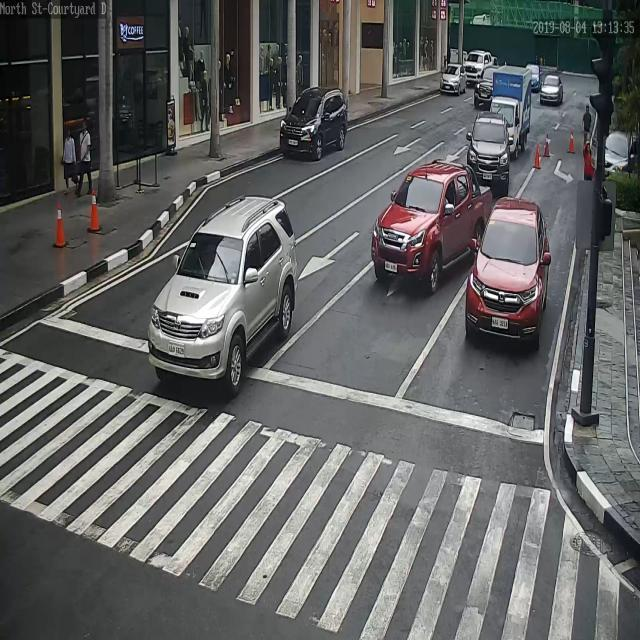car: (147, 197, 297, 385), (372, 160, 493, 291), (465, 196, 550, 344), (279, 87, 348, 157), (466, 111, 510, 195), (604, 129, 640, 178), (474, 66, 503, 109), (464, 52, 494, 84), (439, 63, 467, 95), (540, 74, 563, 103), (526, 65, 541, 93)
motorcycle: (490, 65, 531, 155)
